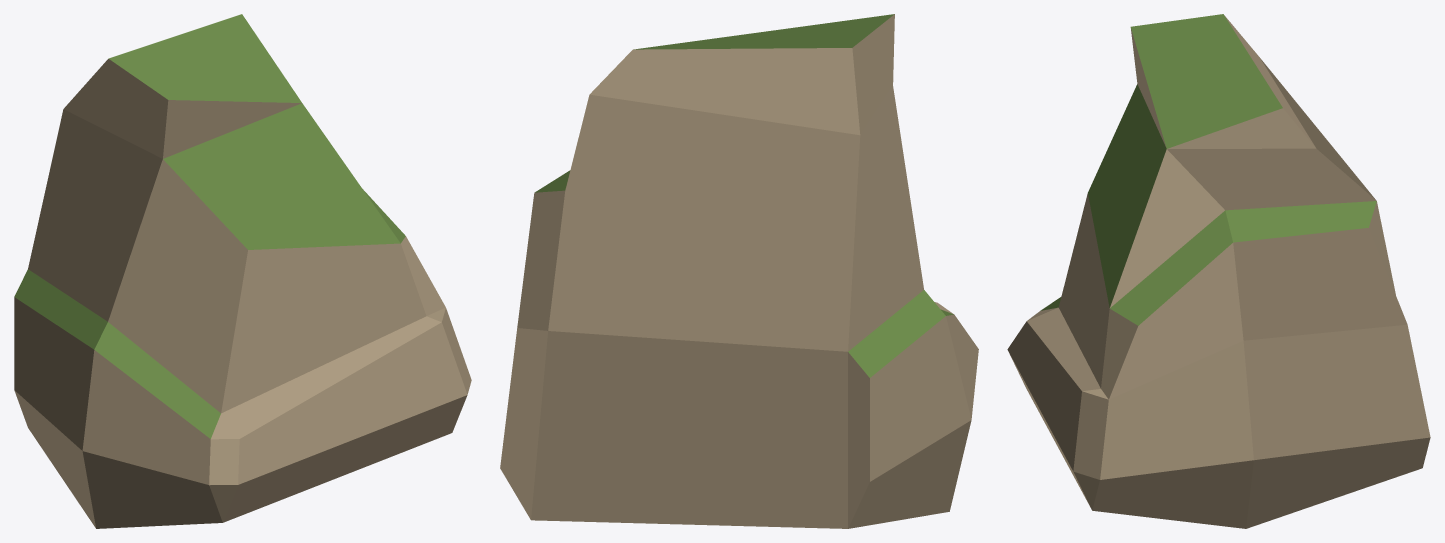
The model's file is rocher_moussu_1.glb.
3 views of the same model, side by side, from view 1: azimuth 30°, elevation 25°; view 2: azimuth 150°, elevation 25°; view 3: azimuth 270°, elevation 25° (orthographic). The views are drawn at different scales.
Parts seen in each view (by area): view 1: rocher_moussu_1; view 2: rocher_moussu_1; view 3: rocher_moussu_1.
Part boxes in pixels (x1,y1,x2,y2): rocher_moussu_1: (14, 14, 471, 528); rocher_moussu_1: (500, 14, 978, 528); rocher_moussu_1: (1007, 14, 1430, 528).
Bounding box in the file's own units: 0.5756 × 0.65 × 0.6112.
